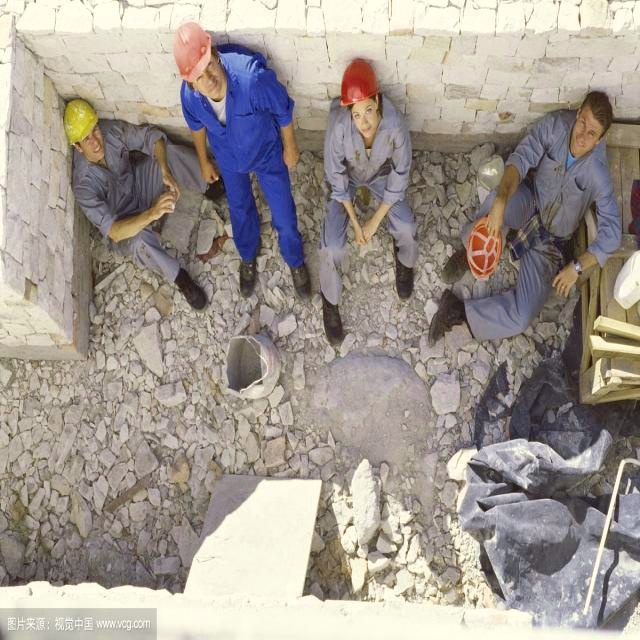Con_Casco: (174, 24, 220, 98), (342, 60, 378, 132), (64, 98, 104, 160)
Sin_Casco_Mascarrilla: (568, 91, 615, 157)
